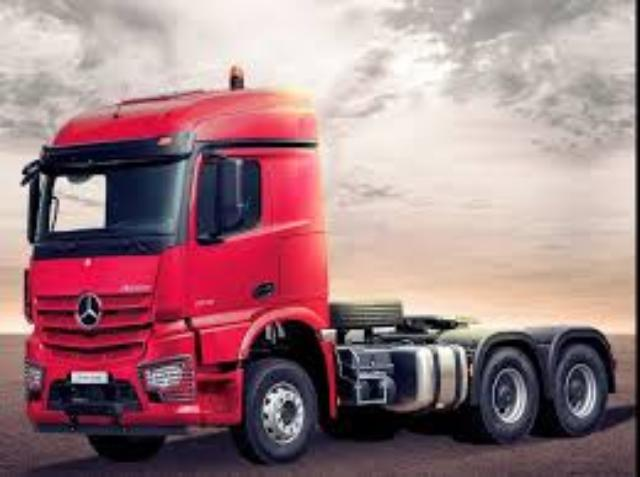benz: (18, 63, 620, 468)
